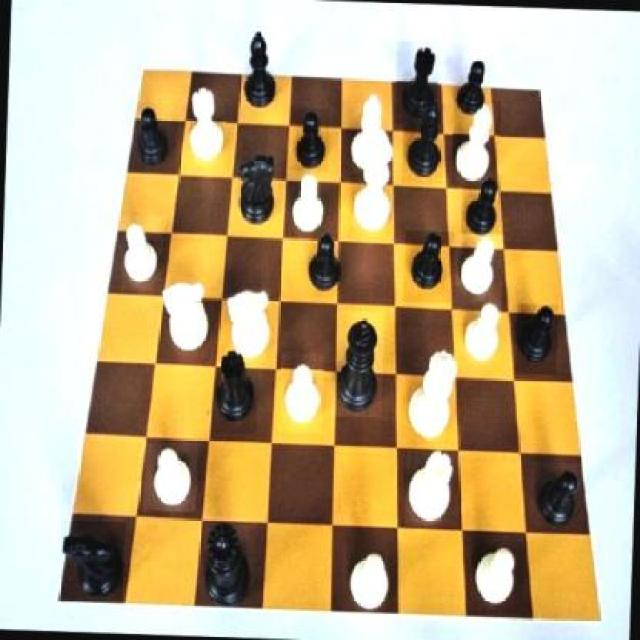bishop: (402, 103, 446, 186), (242, 24, 280, 114)
black-bishop: (334, 310, 384, 418)
black-king: (58, 520, 125, 606), (229, 150, 280, 232)
black-knight: (530, 463, 586, 537), (403, 230, 453, 302), (128, 102, 178, 174), (446, 57, 492, 125), (515, 303, 558, 374), (460, 172, 501, 245), (286, 108, 329, 177), (303, 232, 346, 300)
black-pawn: (197, 517, 256, 611)
black-queen: (212, 343, 260, 434), (394, 40, 438, 125)
black-rook: (451, 98, 500, 188), (344, 85, 388, 180)
white-bishop: (348, 127, 395, 240)
white-king: (158, 270, 214, 366), (224, 275, 274, 371)
white-knight: (143, 442, 199, 512), (454, 234, 503, 311), (277, 354, 324, 434), (458, 300, 509, 369), (282, 170, 328, 244), (474, 546, 524, 614), (119, 215, 162, 292), (342, 544, 391, 608)
white-pawn: (406, 348, 462, 444)
white-queen: (404, 450, 460, 528), (182, 84, 228, 174)
